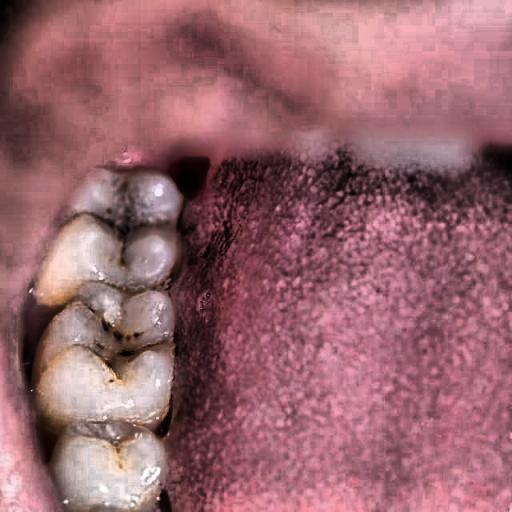Caries: (57, 167, 179, 396)
